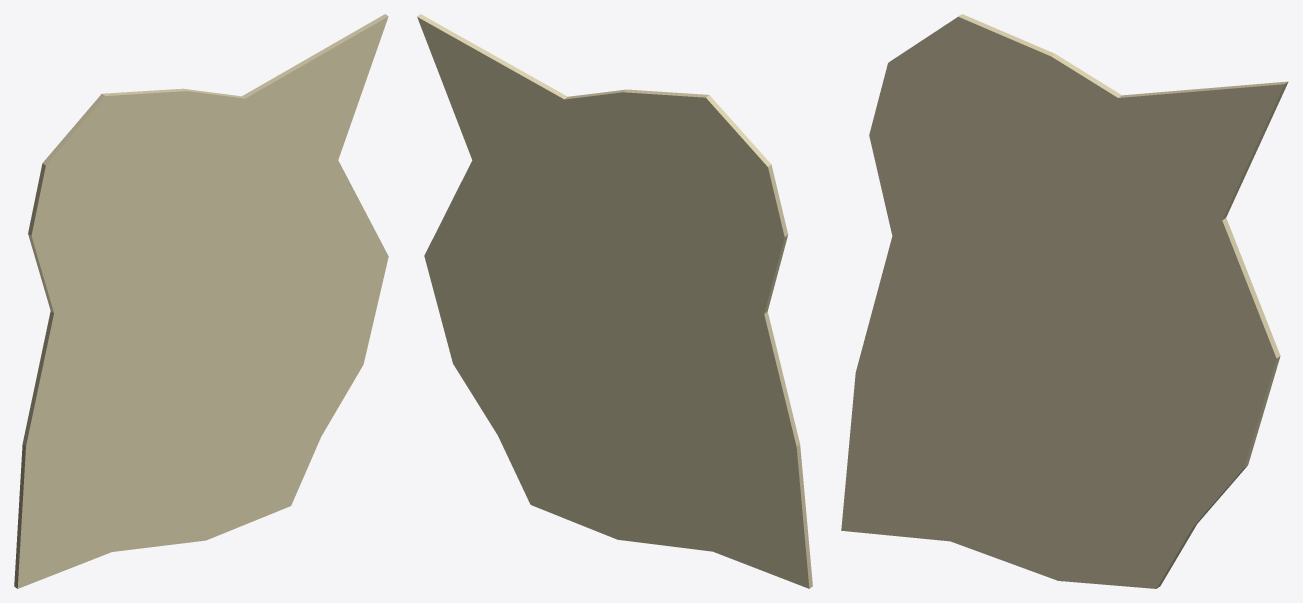
File: sticker_02.glb
3 views of the same model, side by side, from view 1: azimuth 30°, elevation 25°; view 2: azimuth 150°, elevation 25°; view 3: azimuth 330°, elevation 25° (orthographic). The views are drawn at different scales.
Visible parts, largest first — view 1: sticker02; view 2: sticker02; view 3: sticker02.
Boxes of the visible parts, left/top/right/bottom form: sticker02: left=14, top=14, right=388, bottom=588; sticker02: left=417, top=14, right=812, bottom=588; sticker02: left=841, top=14, right=1288, bottom=588.
Bounding box in the file's own units: 0.1638 × 0.1967 × 0.00802.
